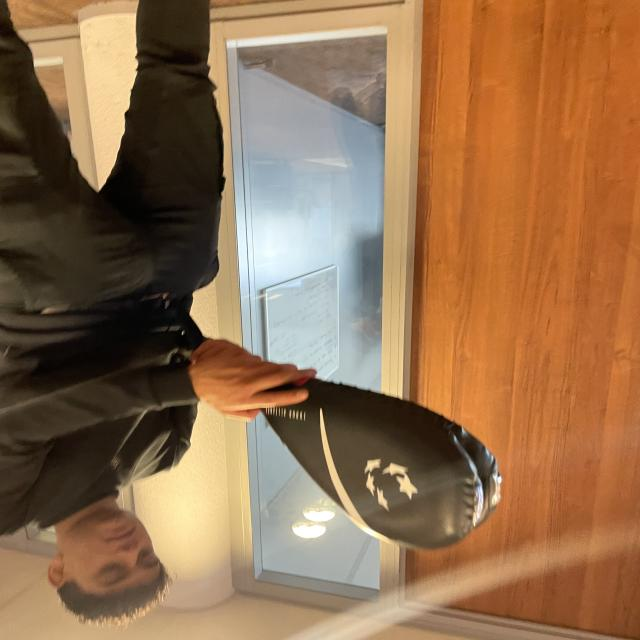paddle: (278, 393, 497, 556)
